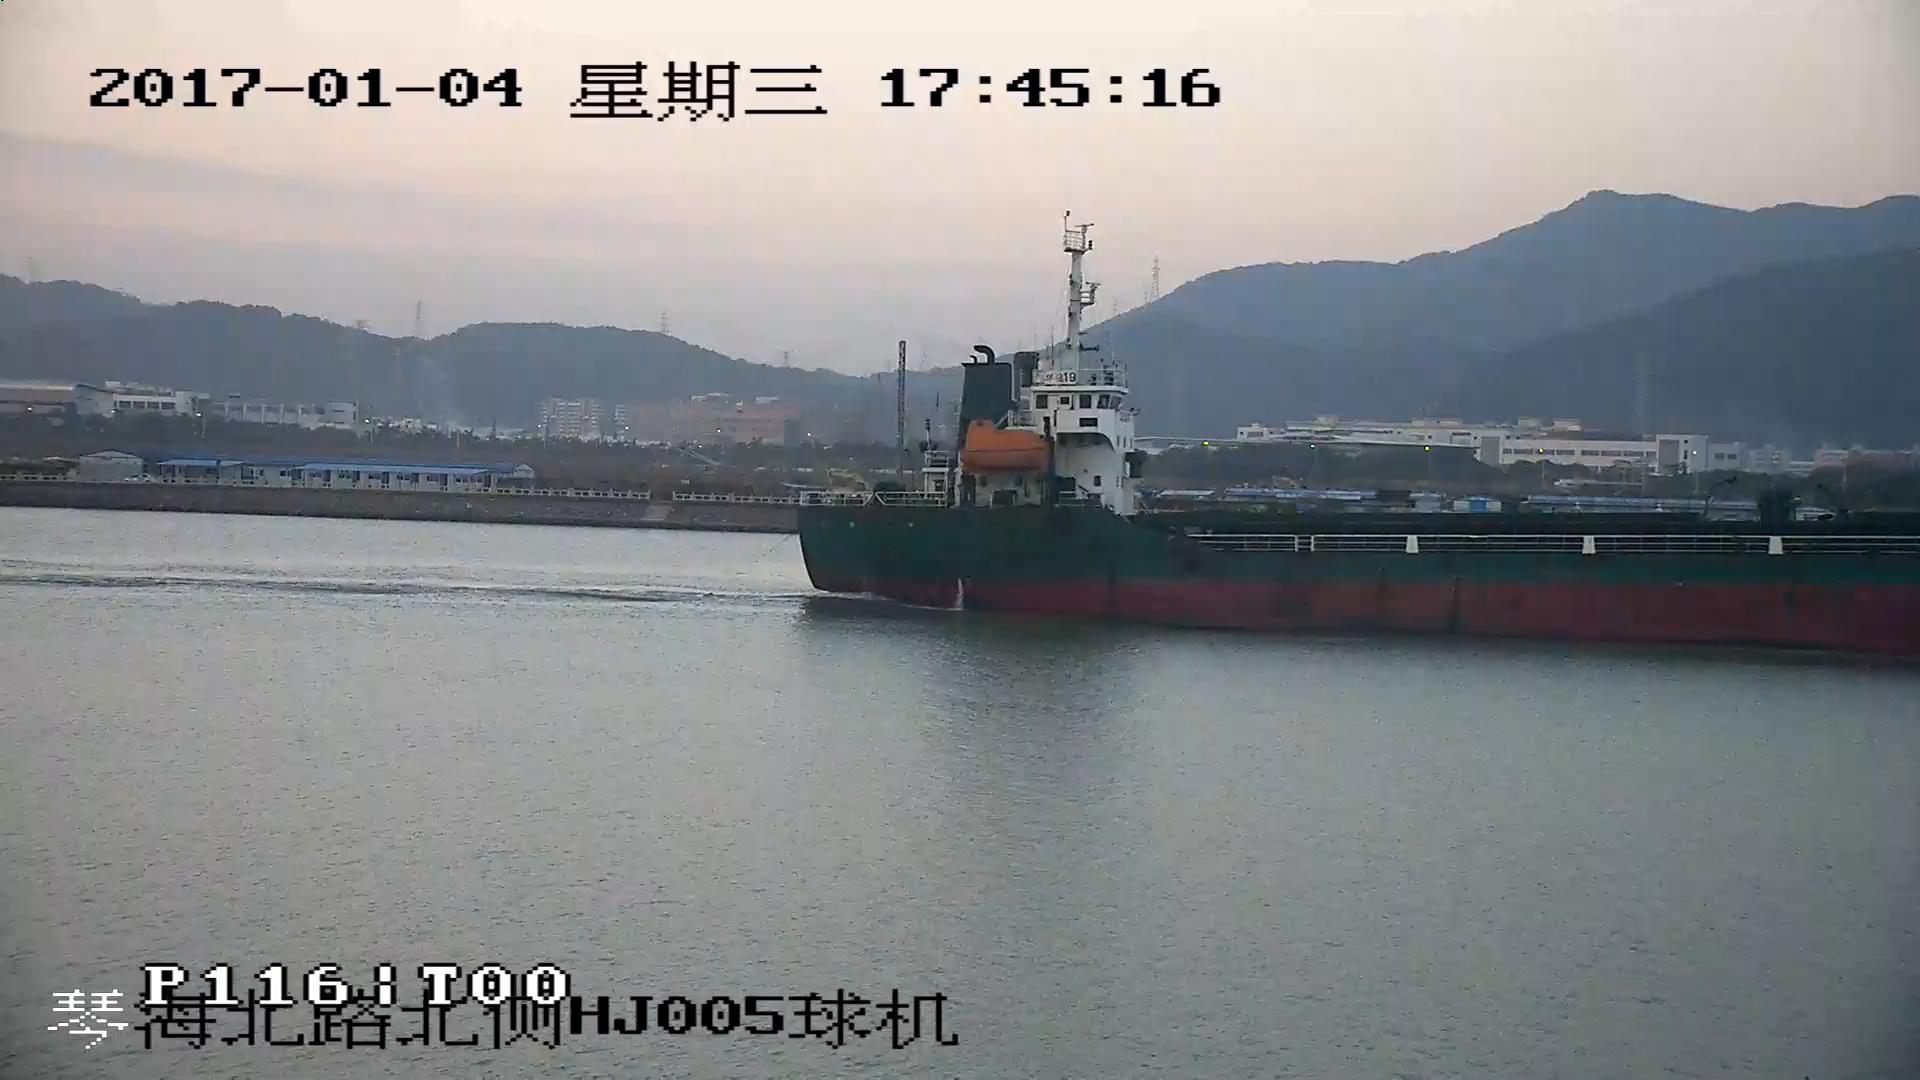Ship: (798, 220, 1920, 651)
